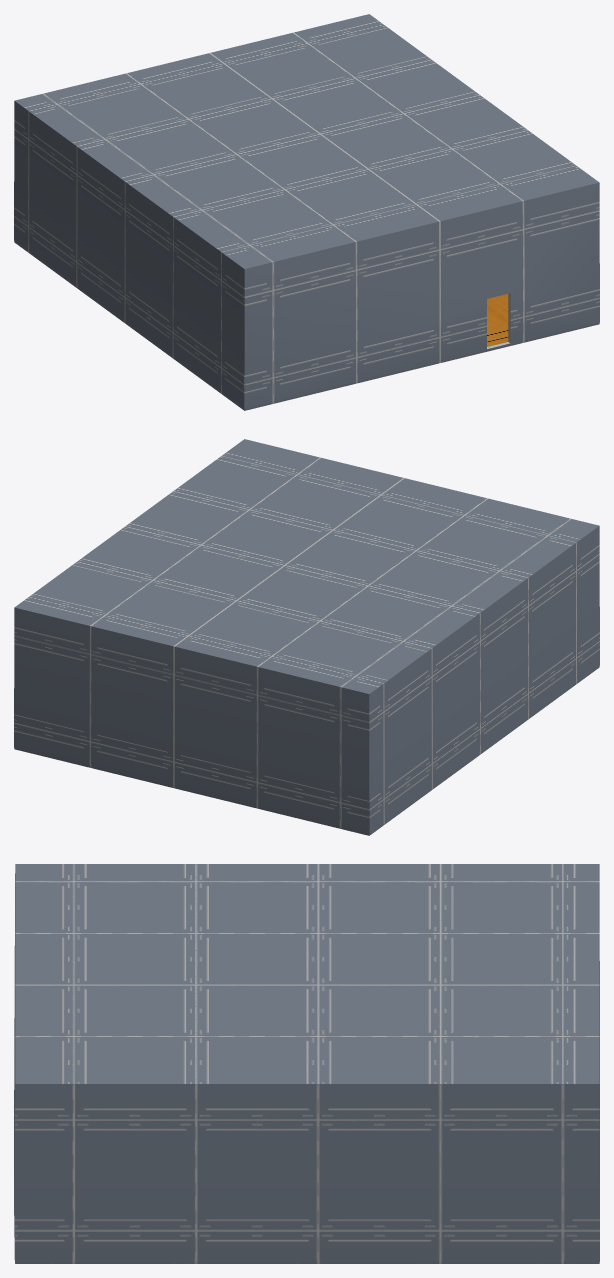
Rendered from room1.fbx.
The picture shows the model from 3 angles, top to bottom: view 1: azimuth 30°, elevation 25°; view 2: azimuth 150°, elevation 25°; view 3: azimuth 270°, elevation 25°; orthographic projection. The views are drawn at different scales.
Visible parts, largest first — view 1: Room1 iner layer.001; view 2: Room1 iner layer.001; view 3: Room1 iner layer.001.
Part boxes in pixels (<box>): Room1 iner layer.001: <box>14,14,599,410</box>; Room1 iner layer.001: <box>14,439,599,835</box>; Room1 iner layer.001: <box>14,864,599,1263</box>.
Size of the model in its own units: 4898 by 1867 by 5508.
